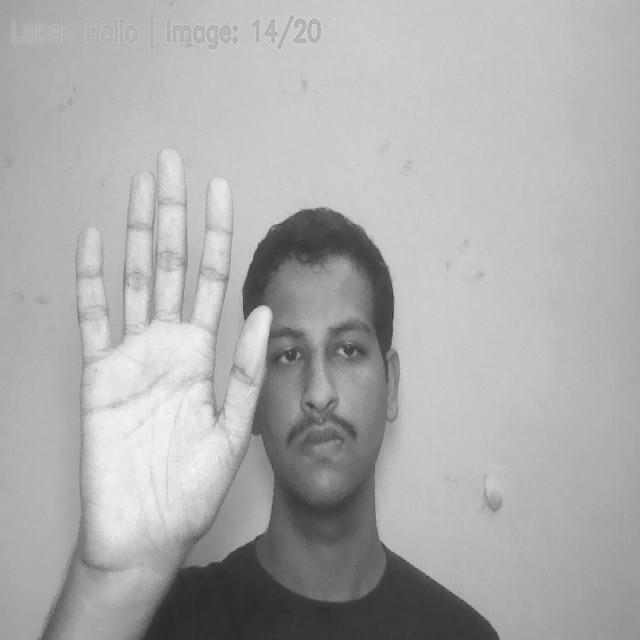Hello: (72, 137, 272, 570)
